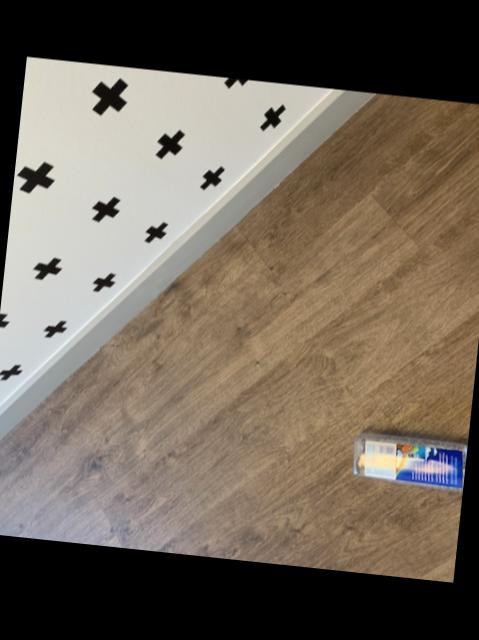plastic: (351, 433, 467, 492)
